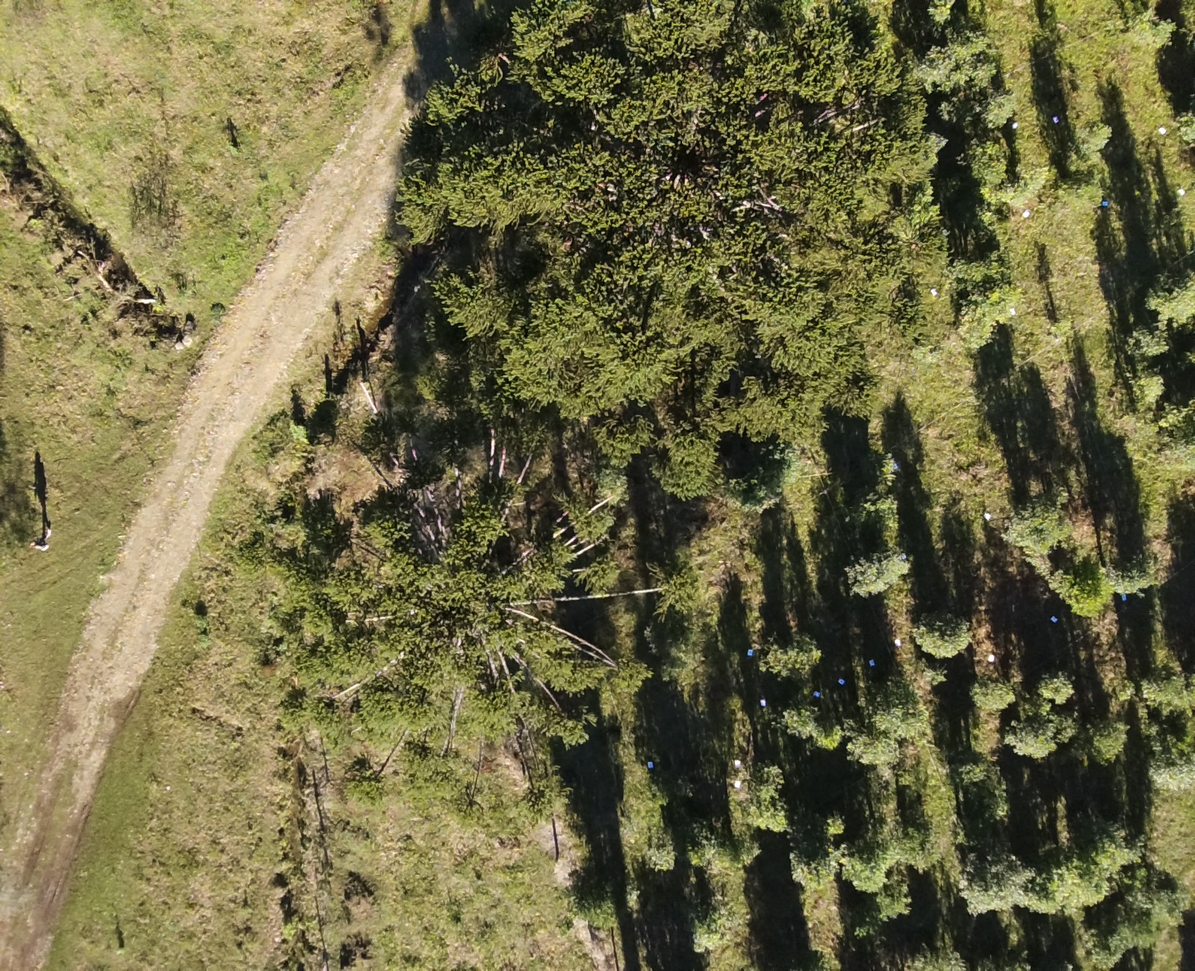erva: (1005, 492, 1071, 551), (873, 818, 944, 872), (1056, 556, 1111, 624), (822, 845, 893, 897), (915, 599, 975, 660), (879, 680, 936, 739), (993, 158, 1044, 221), (778, 843, 840, 893), (756, 632, 819, 680), (1006, 714, 1057, 769), (834, 542, 880, 600), (1086, 828, 1132, 883), (1064, 120, 1116, 168), (960, 141, 1008, 190), (876, 546, 925, 594), (968, 671, 1019, 716), (1145, 755, 1194, 801), (1123, 6, 1174, 50), (955, 310, 1000, 359), (951, 57, 1005, 97), (681, 820, 725, 869), (1140, 666, 1188, 710), (1121, 316, 1173, 356), (1155, 108, 1194, 161), (1092, 717, 1140, 760), (1014, 882, 1065, 922), (1108, 557, 1154, 600), (733, 832, 776, 876), (971, 91, 1025, 126), (775, 704, 824, 742), (1152, 273, 1194, 317), (863, 444, 901, 492), (854, 733, 903, 770), (1114, 366, 1156, 407), (988, 848, 1023, 894), (870, 880, 908, 922), (1156, 400, 1193, 443), (1048, 854, 1085, 897), (676, 926, 724, 959), (957, 877, 995, 917), (999, 276, 1028, 328), (743, 800, 780, 840), (1067, 875, 1104, 914), (940, 34, 989, 63), (749, 760, 789, 795), (810, 717, 847, 754), (1038, 666, 1073, 705), (985, 787, 1025, 819), (1041, 568, 1070, 609), (957, 752, 990, 787), (1051, 713, 1085, 742), (819, 808, 845, 837)
